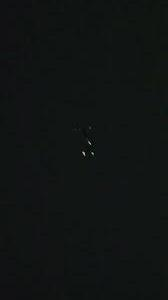Plane: (71, 130, 105, 166)
